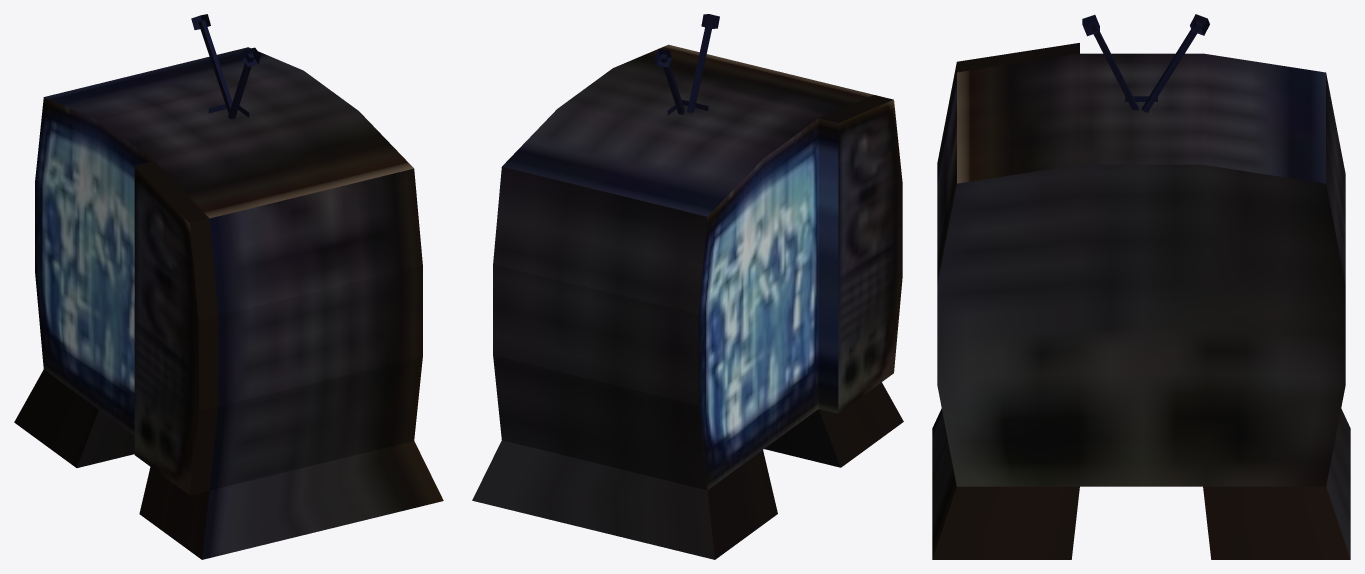
Rendered from new old tv.fbx.
The picture shows the model from 3 angles, left to right: view 1: azimuth 30°, elevation 25°; view 2: azimuth 150°, elevation 25°; view 3: azimuth 270°, elevation 25°; orthographic projection. The views are drawn at different scales.
Visible parts, largest first — view 1: Cube; view 2: Cube; view 3: Cube.
Part boxes in pixels (box(x1,y1,x2,y2)): Cube: box(14, 14, 443, 559); Cube: box(472, 14, 903, 559); Cube: box(932, 14, 1350, 559).
Size of the model in its own units: 144 by 243 by 193.
